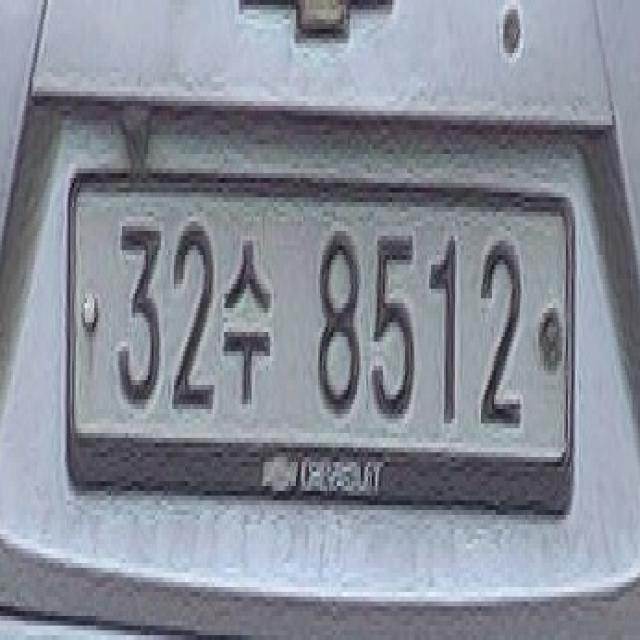1: (429, 236, 459, 428)
2: (166, 221, 216, 419), (478, 236, 524, 438)
3: (116, 212, 162, 414)
5: (368, 231, 416, 423)
8: (316, 221, 361, 419)
license_plate: (71, 178, 574, 467)
su: (220, 236, 272, 409)
